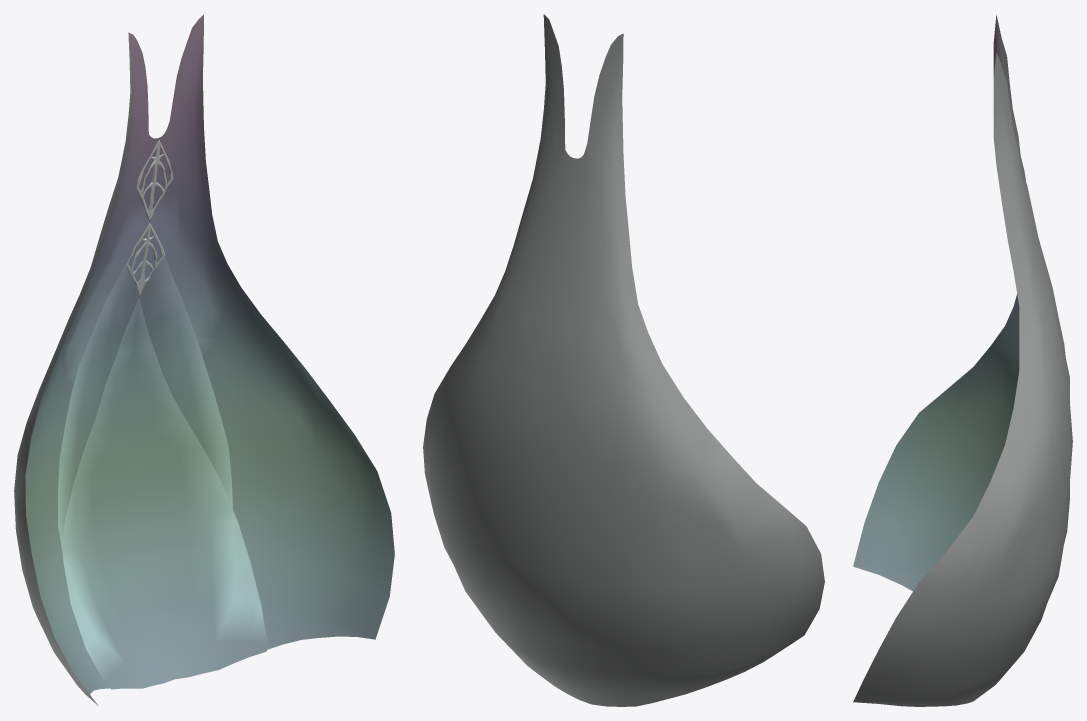
The picture shows the model from 3 angles, left to right: view 1: azimuth 30°, elevation 25°; view 2: azimuth 150°, elevation 25°; view 3: azimuth 270°, elevation 25°; orthographic projection. The views are drawn at different scales.
Parts seen in each view (by area): view 1: G:\FFXIV-MapTools\exports\d2f3\bg\ex1\02_dra_d2\fld\d2f3\bgp (×4); view 2: G:\FFXIV-MapTools\exports\d2f3\bg\ex1\02_dra_d2\fld\d2f3\bgp; view 3: G:\FFXIV-MapTools\exports\d2f3\bg\ex1\02_dra_d2\fld\d2f3\bgp (×2).
Part boxes in pixels (box(x1,y1,x2,y2)): G:\FFXIV-MapTools\exports\d2f3\bg\ex1\02_dra_d2\fld\d2f3\bgp (×4): box(14, 14, 394, 705); G:\FFXIV-MapTools\exports\d2f3\bg\ex1\02_dra_d2\fld\d2f3\bgp: box(423, 14, 824, 706); G:\FFXIV-MapTools\exports\d2f3\bg\ex1\02_dra_d2\fld\d2f3\bgp (×2): box(853, 14, 1072, 706).
Size of the model in its own units: 284 by 504 by 153.
